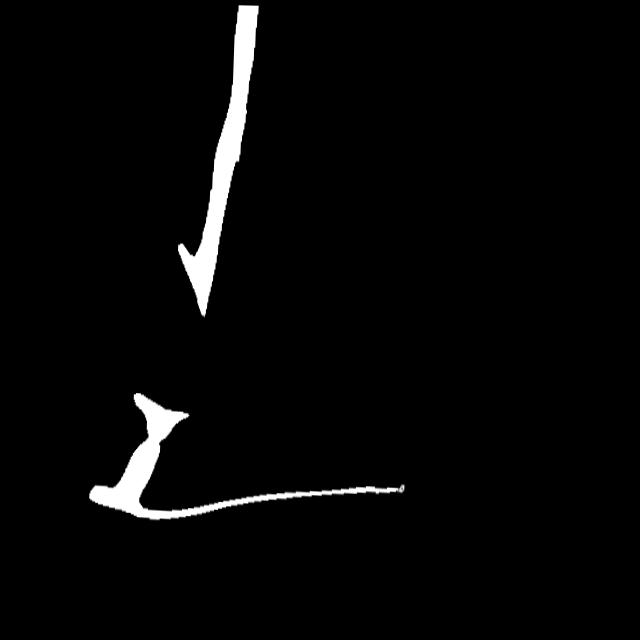stp: (379, 463, 427, 511)
